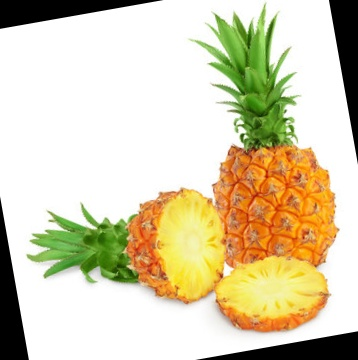Pineapple: (188, 4, 338, 272)
